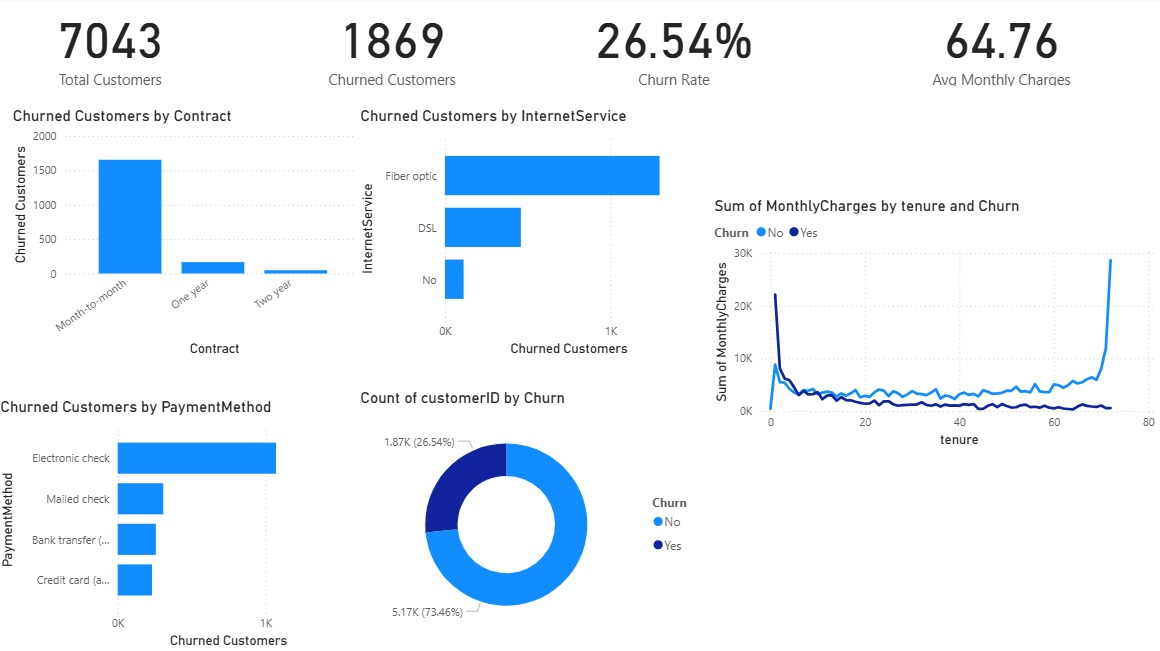

This screenshot's page, from the dashboard's own definition file:
{"tool":"powerbi","page":{"name":"Page 1","canvas":[1280,720],"ordinal":0},"visuals":[{"type":"clusteredColumnChart","fields":{"Category":["customer_churn_cleaned.Contract"],"Y":["customer_churn_cleaned.Churned Customers"]},"box":[13.7,120.8,395.2,279.9],"z":0},{"type":"clusteredBarChart","fields":{"Category":["customer_churn_cleaned.InternetService"],"Y":["customer_churn_cleaned.Churned Customers"]},"box":[395.2,120.8,388.3,279.9],"z":1},{"type":"clusteredBarChart","fields":{"Category":["customer_churn_cleaned.PaymentMethod"],"Y":["customer_churn_cleaned.Churned Customers"]},"box":[0,440.5,395.2,279.9],"z":2},{"type":"donutChart","fields":{"Category":["customer_churn_cleaned.Churn"],"Y":["CountNonNull(customer_churn_cleaned.customerID)"]},"box":[395.2,430.9,388.3,279.9],"z":3},{"type":"lineChart","fields":{"Category":["customer_churn_cleaned.tenure"],"Y":["Sum(customer_churn_cleaned.MonthlyCharges)"],"Series":["customer_churn_cleaned.Churn"]},"box":[783.5,219.6,496.7,279.9],"z":4},{"type":"card","fields":{"Values":["customer_churn_cleaned.Total Customers"]},"box":[30.2,1.4,190.7,102.9],"z":5},{"type":"card","fields":{"Values":["customer_churn_cleaned.Churned Customers"]},"box":[336.2,1.4,197.6,102.9],"z":6},{"type":"card","fields":{"Values":["customer_churn_cleaned.Churn Rate"]},"box":[639.5,1.4,209.9,102.9],"z":7},{"type":"card","fields":{"Values":["customer_churn_cleaned.Avg Monthly Charges"]},"box":[997.6,1.4,212.7,102.9],"z":8}]}

Visuals, with their boxes in screenshot pixels (x1, y1, x2, y2), scaled from the page's 1280x720 canvas onto the 1160x651 screenshot:
clusteredColumnChart - customer_churn_cleaned.Contract x customer_churn_cleaned.Churned Customers: x1=12, y1=109, x2=371, y2=362
clusteredBarChart - customer_churn_cleaned.InternetService x customer_churn_cleaned.Churned Customers: x1=358, y1=109, x2=710, y2=362
clusteredBarChart - customer_churn_cleaned.PaymentMethod x customer_churn_cleaned.Churned Customers: x1=0, y1=398, x2=358, y2=650
donutChart - customer_churn_cleaned.Churn x CountNonNull(customer_churn_cleaned.customerID): x1=358, y1=390, x2=710, y2=643
lineChart - customer_churn_cleaned.tenure x Sum(customer_churn_cleaned.MonthlyCharges): x1=710, y1=199, x2=1159, y2=452
card - customer_churn_cleaned.Total Customers: x1=27, y1=1, x2=200, y2=94
card - customer_churn_cleaned.Churned Customers: x1=305, y1=1, x2=484, y2=94
card - customer_churn_cleaned.Churn Rate: x1=580, y1=1, x2=770, y2=94
card - customer_churn_cleaned.Avg Monthly Charges: x1=904, y1=1, x2=1097, y2=94
